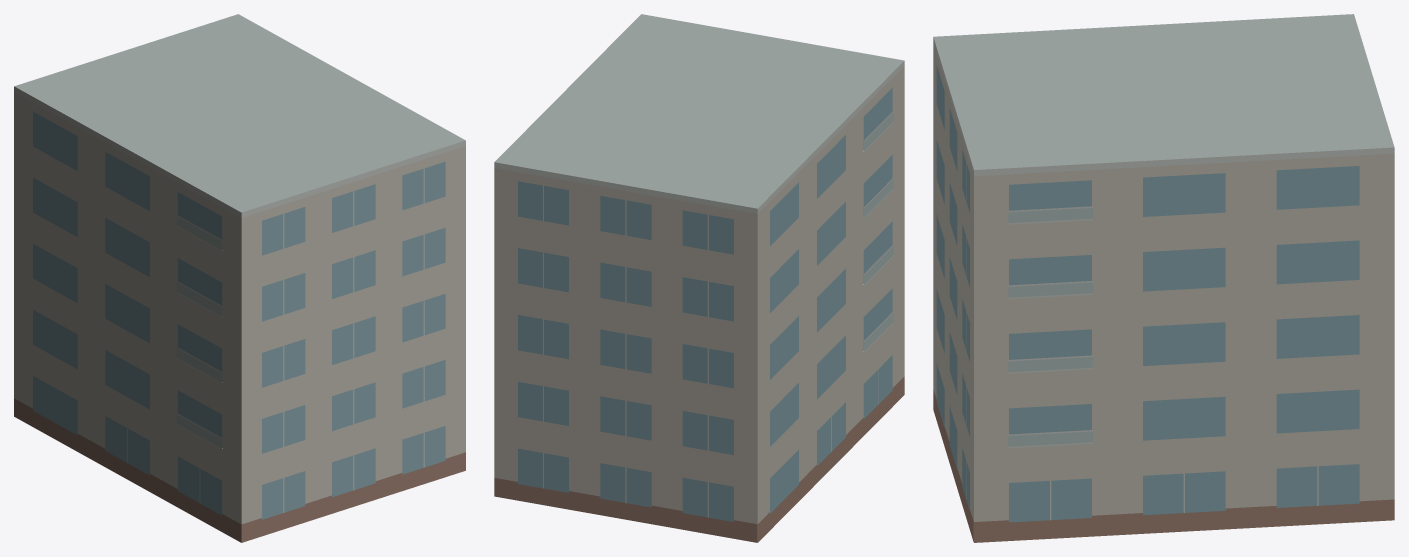
File: survey-upis-32998089.glb
The picture shows the model from 3 angles, left to right: view 1: azimuth 30°, elevation 25°; view 2: azimuth 150°, elevation 25°; view 3: azimuth 270°, elevation 25°; orthographic projection. The views are drawn at different scales.
Parts seen in each view (by area): view 1: survey-upis-32998089.tmp; view 2: survey-upis-32998089.tmp; view 3: survey-upis-32998089.tmp.
Part boxes in pixels (box(x1,y1,x2,y2)): survey-upis-32998089.tmp: box(14, 14, 465, 542); survey-upis-32998089.tmp: box(494, 14, 904, 542); survey-upis-32998089.tmp: box(933, 14, 1394, 542).
Bounding box in the file's own units: 13.3 × 14.8 × 16.61.
